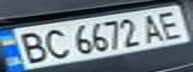2: (118, 16, 145, 47)
6: (87, 19, 112, 53), (69, 20, 93, 55)
7: (103, 17, 127, 51)
A: (136, 11, 172, 44)
B: (9, 29, 51, 64)
C: (36, 26, 72, 60)
E: (151, 8, 190, 41)
